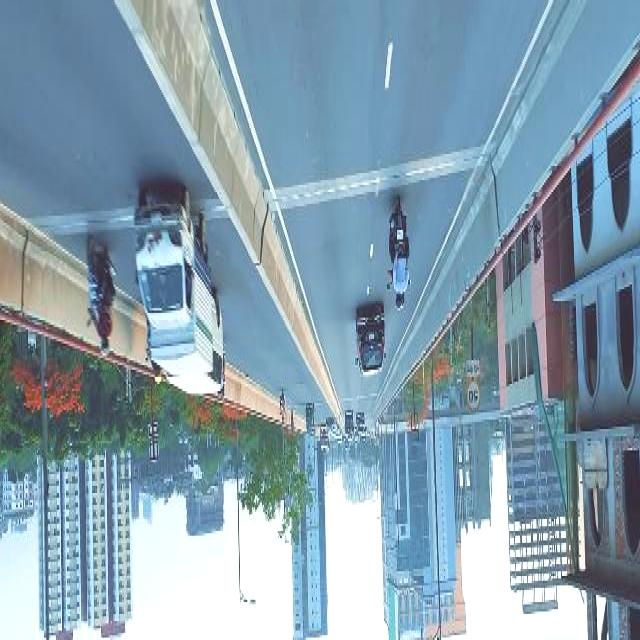black: (355, 308, 385, 373)
